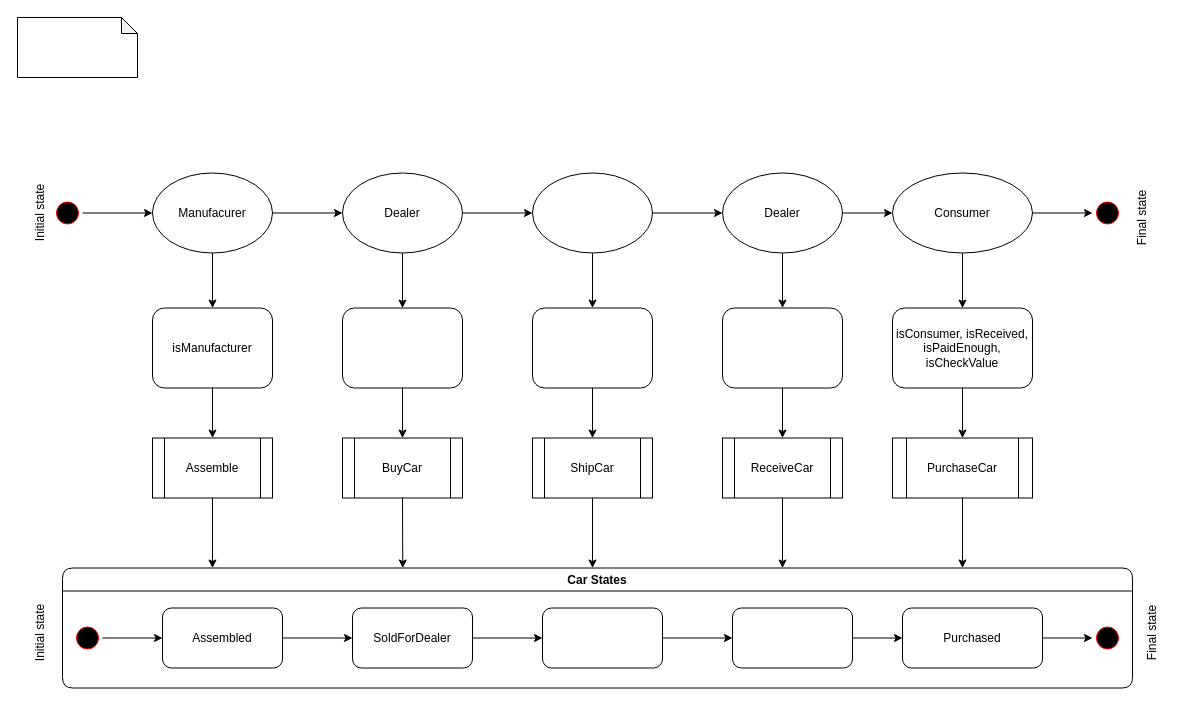
The diagram is 1179 pixels wide and 706 high, and some of its shapes have lost their labels. Here are the shapes that lost their labels. From the top down, the centre of each, then its label:
At point (77, 47): "State diagram".
At point (592, 212): "Manufacturer".
At point (402, 347): "isDealer, isAssembled, isPaidEnough, isCheckValue".
At point (592, 347): "isManufacturer, isSoldForDealer".
At point (782, 347): "isDealer, isShiped".
At point (602, 637): "Shipped".
At point (792, 637): "Received".
